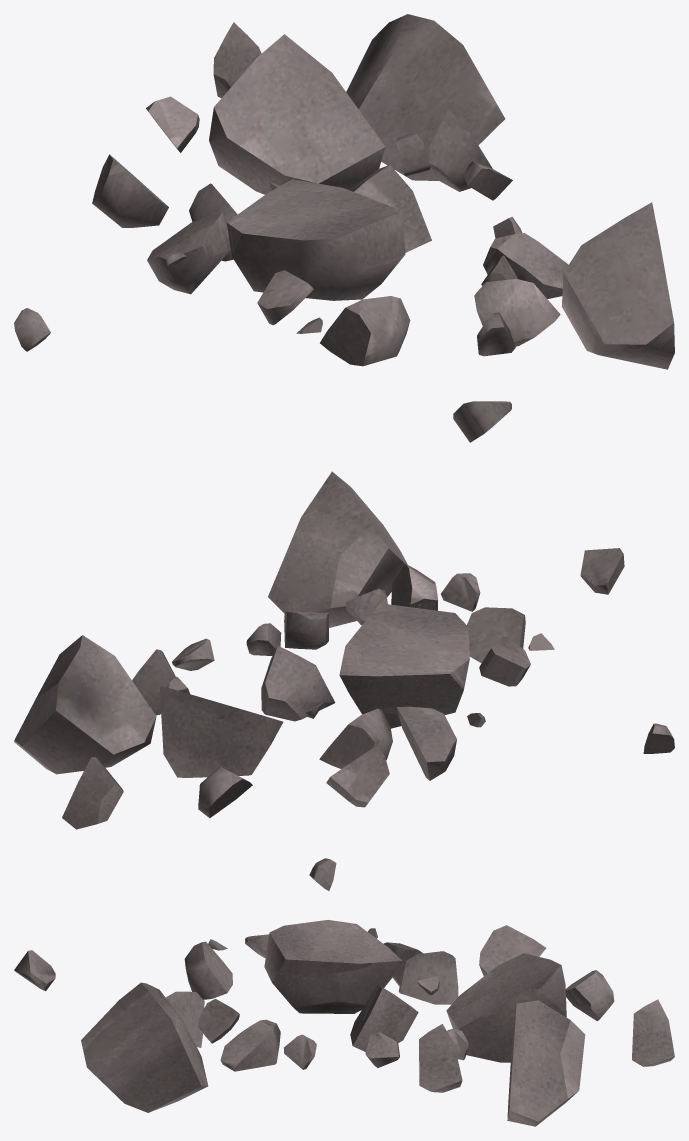
3 renders of one model, top to bottom at view 1: azimuth 30°, elevation 25°; view 2: azimuth 150°, elevation 25°; view 3: azimuth 270°, elevation 25°, orthographic. The views are drawn at different scales.
Parts seen in each view (by area): view 1: body0_model0_lod0_mesh0; view 2: body0_model0_lod0_mesh0; view 3: body0_model0_lod0_mesh0.
Part boxes in pixels (<box>): body0_model0_lod0_mesh0: <box>14,14,674,442</box>; body0_model0_lod0_mesh0: <box>14,471,674,829</box>; body0_model0_lod0_mesh0: <box>14,858,674,1126</box>.
Size of the model in its own units: 199 by 51.82 by 248.
Materials: 1 (1 with a texture image).
